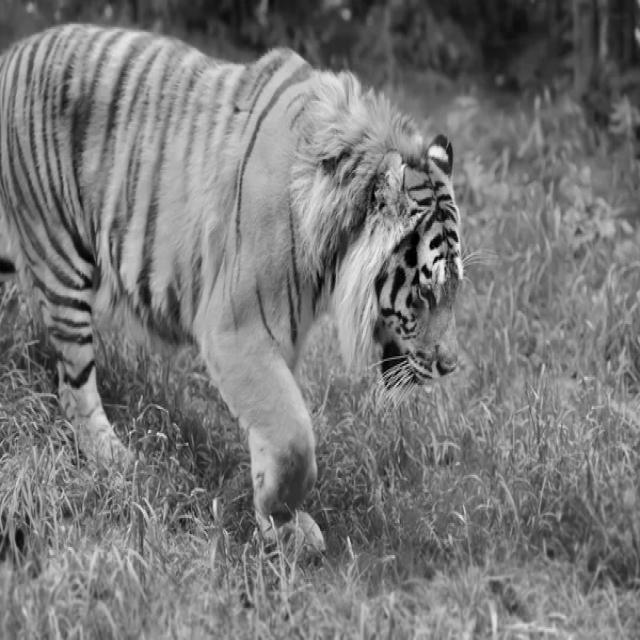Animal: (0, 24, 463, 546)
